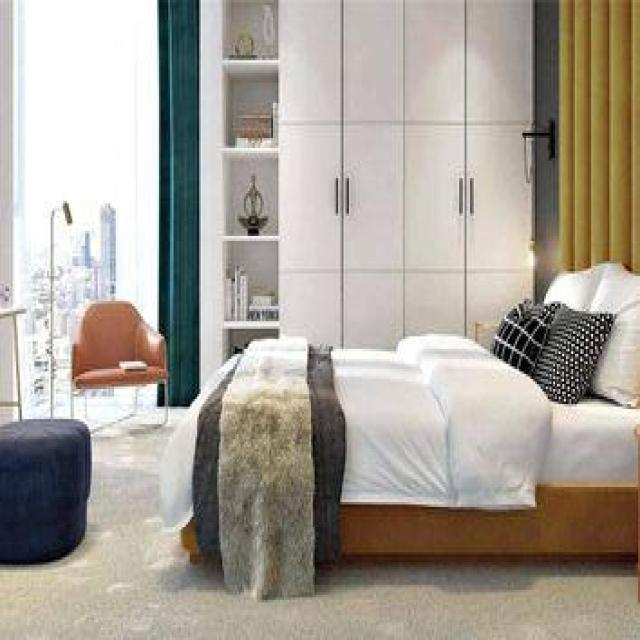Wall: (0, 416, 640, 639), (199, 0, 224, 384), (535, 137, 560, 301), (534, 0, 557, 130)
